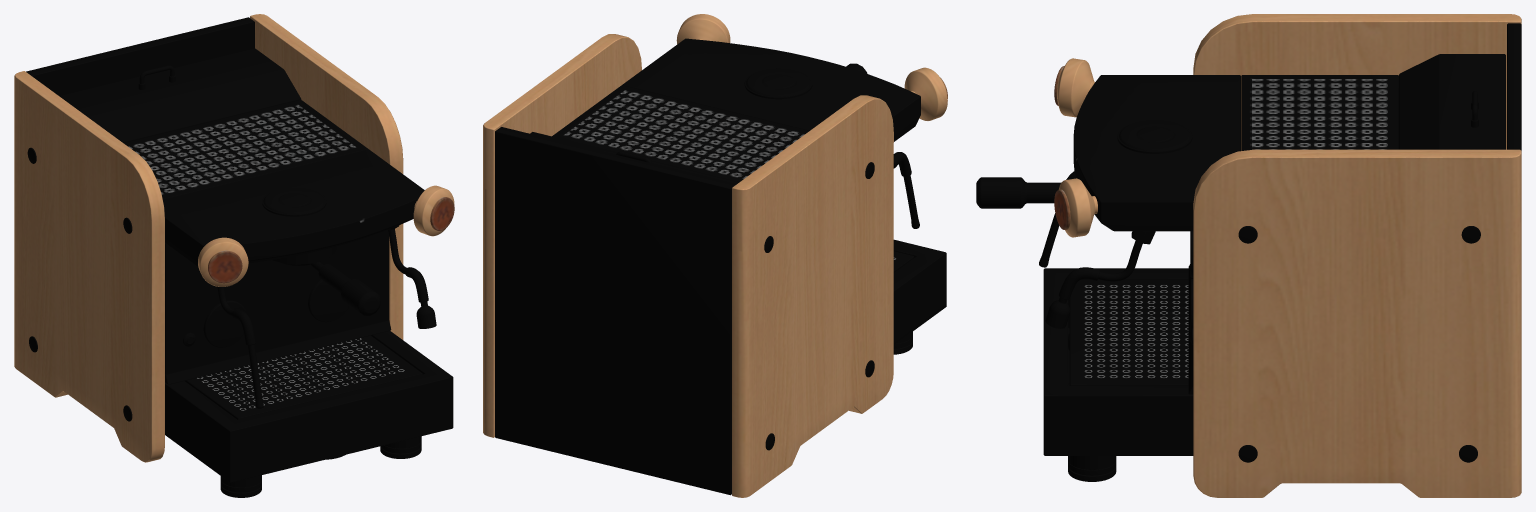
Rendered from electronic_01.001.fbx.
3 renders of one model, left to right at view 1: azimuth 30°, elevation 25°; view 2: azimuth 150°, elevation 25°; view 3: azimuth 270°, elevation 25°, orthographic. The views are drawn at different scales.
Parts seen in each view (by area): view 1: electronic_01.001; view 2: electronic_01.001; view 3: electronic_01.001.
Boxes of the visible parts, x1=… form: electronic_01.001: x1=14, y1=14, x2=454, y2=497; electronic_01.001: x1=483, y1=14, x2=947, y2=497; electronic_01.001: x1=976, y1=14, x2=1521, y2=497.
Size of the model in its own units: 31.77 by 34.91 by 50.56.
Materials: 1 (1 with a texture image).
